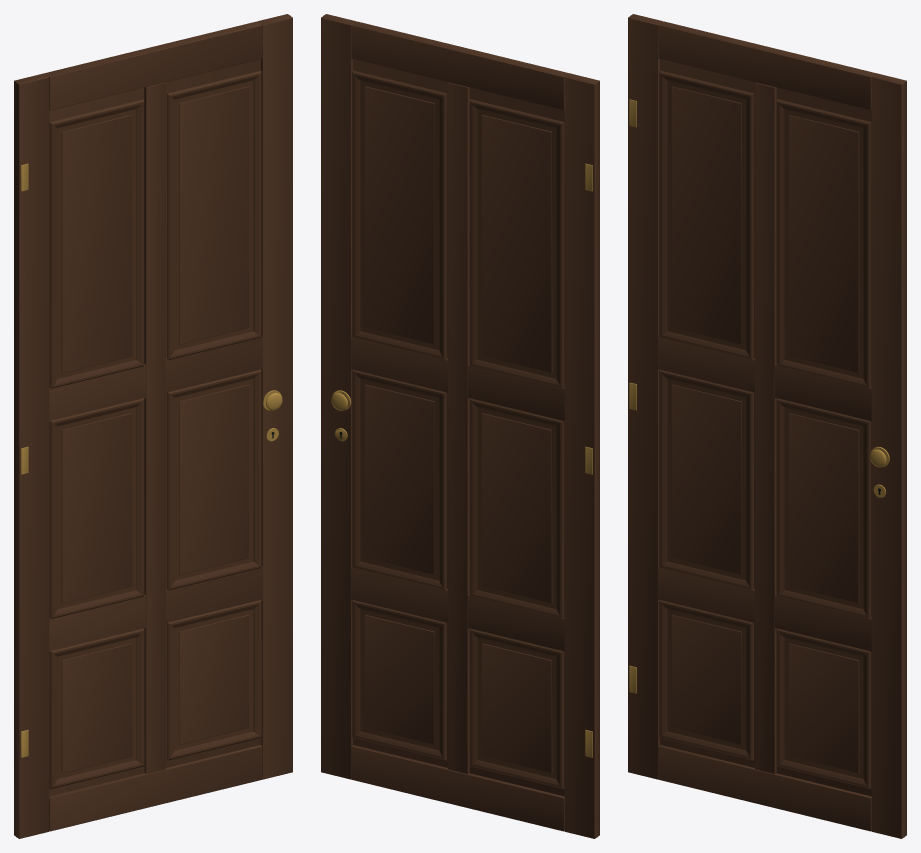
Rendered from rpg-mansion-door-six-panel-01.glb.
3 views of the same model, side by side, from view 1: azimuth 30°, elevation 25°; view 2: azimuth 150°, elevation 25°; view 3: azimuth 330°, elevation 25° (orthographic).
Visible parts, largest first — view 1: rpg-mansion-door-six-panel-01; view 2: rpg-mansion-door-six-panel-01; view 3: rpg-mansion-door-six-panel-01.
Boxes of the visible parts, left/top/right/bottom form: rpg-mansion-door-six-panel-01: left=14, top=14, right=292, bottom=838; rpg-mansion-door-six-panel-01: left=321, top=14, right=599, bottom=838; rpg-mansion-door-six-panel-01: left=628, top=14, right=906, bottom=838.
Bounding box in the file's own units: 0.76 × 2 × 0.06.
